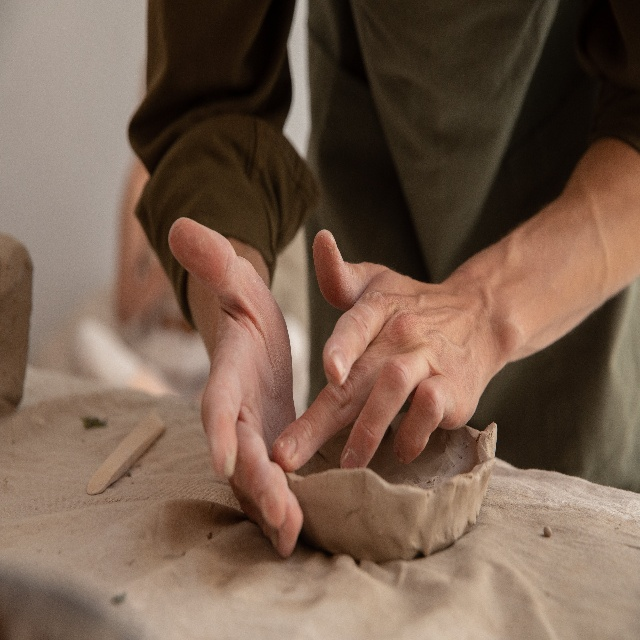Sin_guantes: (266, 224, 491, 476), (168, 213, 307, 556)
